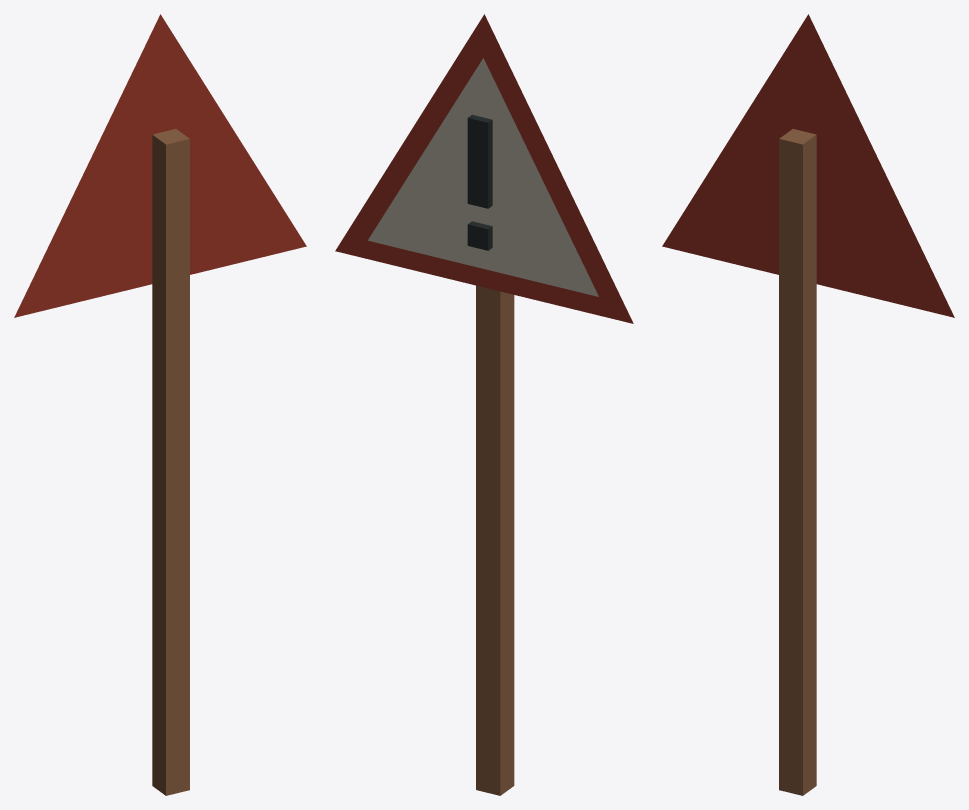
File: warning_sign.glb
3 renders of one model, left to right at view 1: azimuth 30°, elevation 25°; view 2: azimuth 150°, elevation 25°; view 3: azimuth 330°, elevation 25°, orthographic. The views are drawn at different scales.
Visible parts, largest first — view 1: warning_sign_visual; view 2: warning_sign_visual; view 3: warning_sign_visual.
Boxes of the visible parts, x1=… form: warning_sign_visual: x1=14, y1=14, x2=306, y2=795; warning_sign_visual: x1=335, y1=14, x2=633, y2=795; warning_sign_visual: x1=662, y1=14, x2=954, y2=795.
Size of the model in its own units: 0.8 by 2 by 0.1125.
